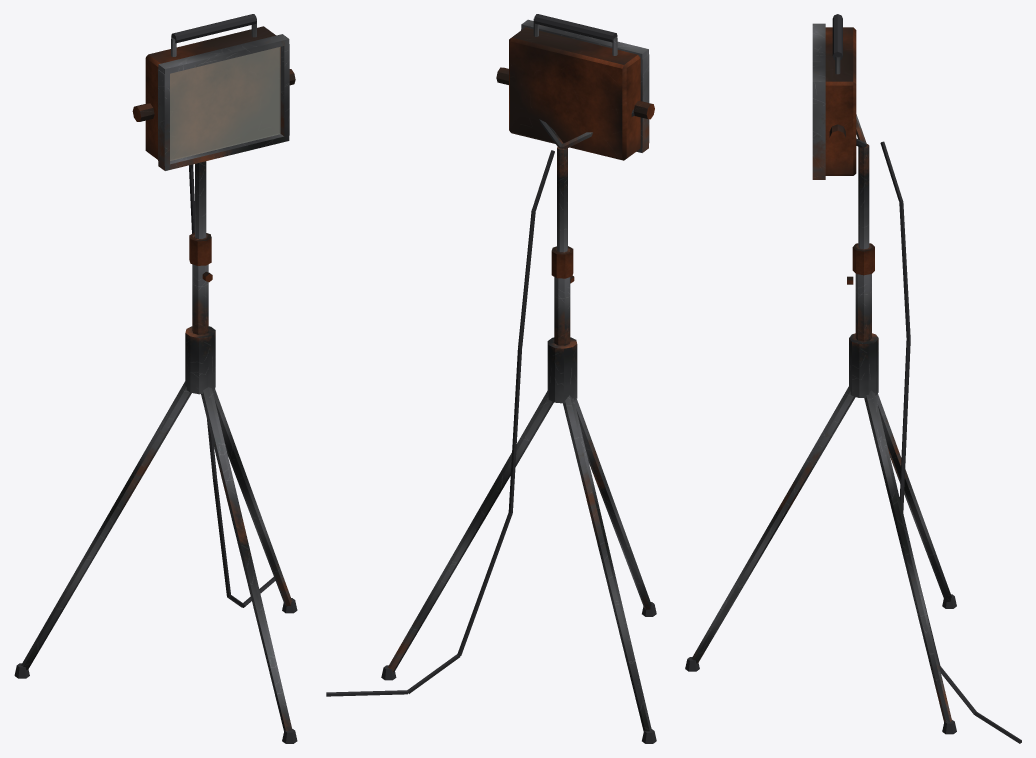
File: light_floor_work_lamp.glb
3 views of the same model, side by side, from view 1: azimuth 30°, elevation 25°; view 2: azimuth 150°, elevation 25°; view 3: azimuth 270°, elevation 25° (orthographic). The views are drawn at different scales.
Visible parts, largest first — view 1: Body, Rust, Glass, Cable; view 2: Body, Rust, Cable; view 3: Body, Rust, Cable.
Part boxes in pixels (bbox=[...]): Body: bbox=[21, 22, 292, 730]; Rust: bbox=[132, 26, 295, 282]; Glass: bbox=[170, 47, 280, 160]; Cable: bbox=[14, 14, 297, 743]; Body: bbox=[388, 19, 651, 731]; Rust: bbox=[496, 27, 654, 283]; Cable: bbox=[326, 14, 656, 743]; Body: bbox=[691, 23, 951, 722]; Rust: bbox=[825, 27, 874, 284]; Cable: bbox=[685, 14, 1021, 743].
Bounding box in the file's own units: 0.899 × 1.88 × 0.9042.
Materials: 5 (2 with a texture image).
